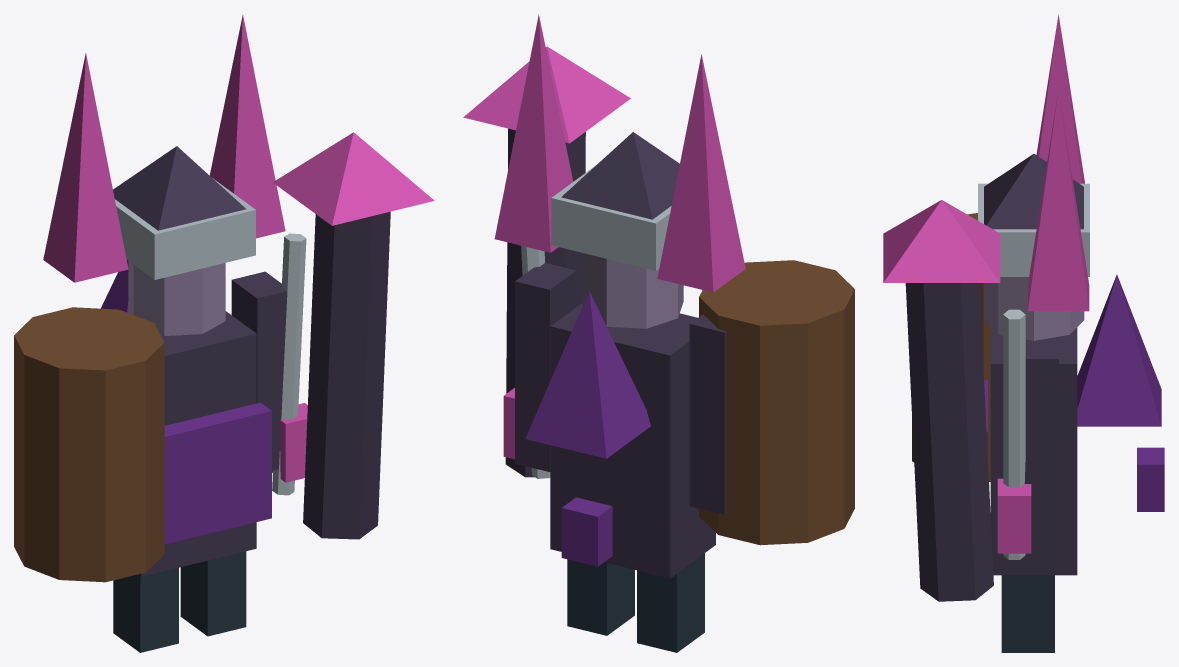
The model's file is club-fighter.obj.
3 views of the same model, side by side, from view 1: azimuth 30°, elevation 25°; view 2: azimuth 150°, elevation 25°; view 3: azimuth 270°, elevation 25° (orthographic). The views are drawn at different scales.
Parts seen in each view (by area): view 1: infantry; view 2: infantry; view 3: infantry.
Boxes of the visible parts, <box> form: infantry: <box>14,15,434,652</box>; infantry: <box>463,14,854,652</box>; infantry: <box>883,14,1164,652</box>.
Size of the model in its own units: 1.33 by 2.07 by 0.915.
